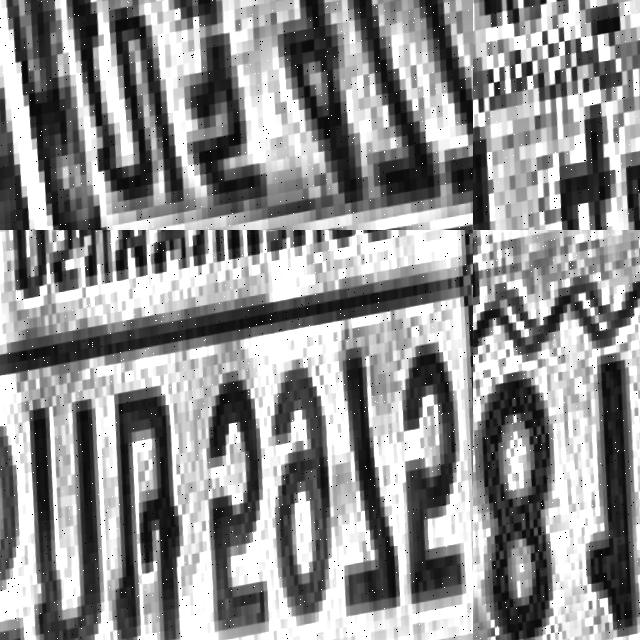license-plate: (0, 230, 473, 640), (0, 0, 473, 230), (473, 230, 640, 640), (473, 0, 640, 230)
